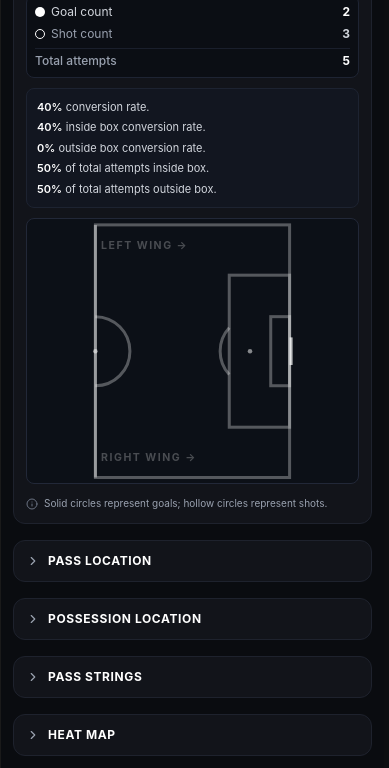
Test case: renders pass strings summary metrics when data is present
(page scrolled)
// Expand pass strings accordion
Click the button "Pass strings".
click(95, 677)  # box [14,657,371,697]
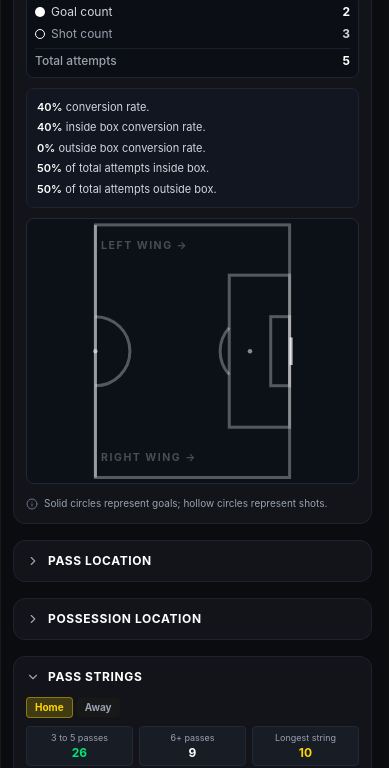
Expected: the text "3 to 5 passes" is shown, [51,732,108,743]
Expected: the text "26" is shown, [72,745,87,760]
Expected: the text "9" is shown, [189,745,196,760]
